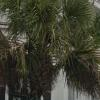Palm tree: (14, 5, 75, 93)
